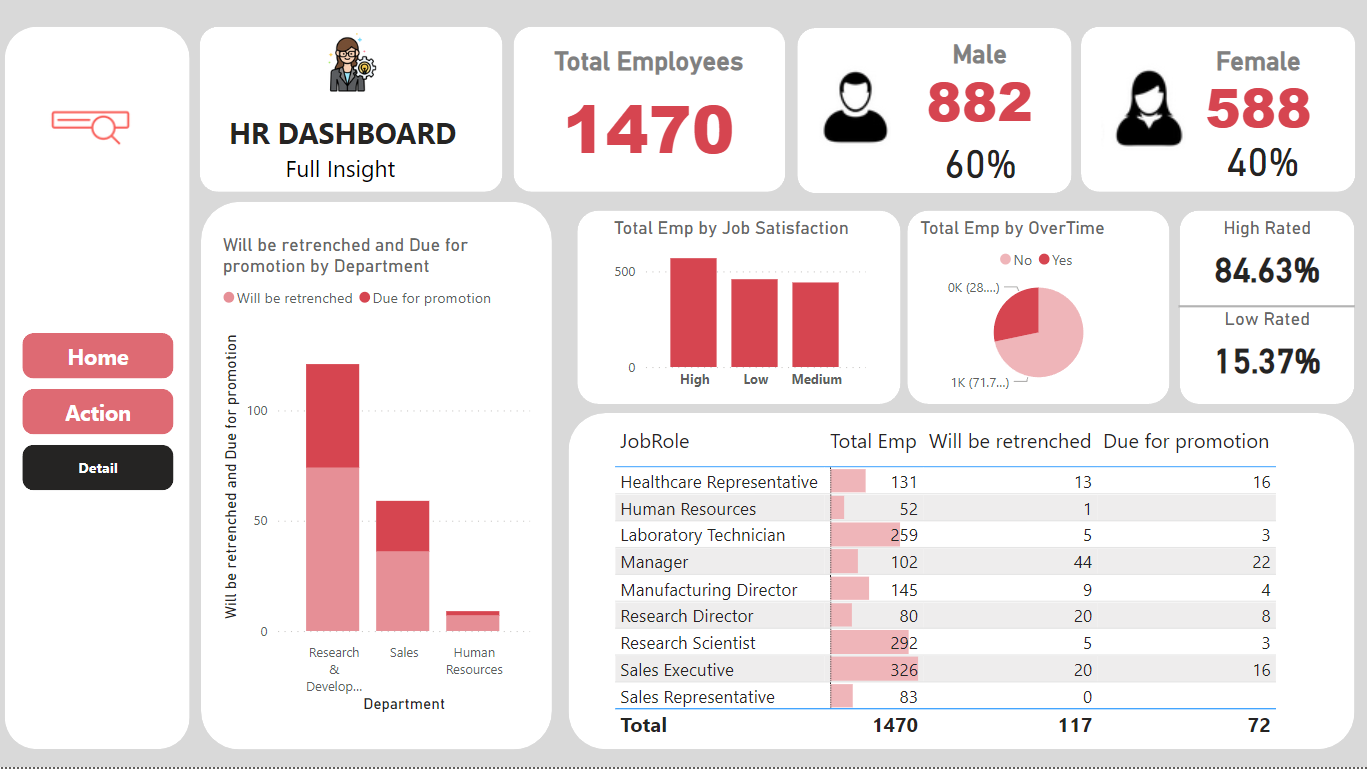

Layout of this report page (visuals, bound fields, positions):
{"tool":"powerbi","page":{"name":"Detail","canvas":[1280,720],"ordinal":2},"visuals":[{"type":"shape","box":[8.1,31.4,172.1,672.1],"z":0},{"type":"shape","box":[190,31.8,281.2,153.8],"z":1000},{"type":"shape","box":[1008.8,31.8,255,153.8],"z":2000},{"type":"shape","box":[745,33.1,255,153.8],"z":3000},{"type":"shape","box":[481.3,31.8,252.5,153.8],"z":4000},{"type":"textbox","box":[211.3,106.8,236.2,46.2],"z":5000},{"type":"textbox","box":[263.8,143.1,127.5,38.8],"z":6000},{"type":"image","box":[280,33.1,102.5,77.5],"z":7000},{"type":"card","title":"Total Employees ","fields":{"Values":["New Measures.Total Emp"]},"box":[502.5,49.3,210,120],"z":8000},{"type":"card","title":"Male","fields":{"Values":["New Measures.Male"]},"box":[841.3,43.1,148.8,83.8],"z":9000},{"type":"card","title":"Female","fields":{"Values":["New Measures.Female"]},"box":[1100,49.3,148.8,83.8],"z":10000},{"type":"card","fields":{"Values":["New Measures.% male"]},"box":[873.8,128.1,85,55],"z":11000},{"type":"card","fields":{"Values":["New Measures.% female"]},"box":[1136.3,126.8,85,55],"z":12000},{"type":"image","box":[747.5,51.8,100,100],"z":13000},{"type":"image","box":[1021.3,60.6,92.5,91.2],"z":14000},{"type":"shape","box":[190.7,194.2,326.7,509.3],"z":15000},{"type":"columnChart","fields":{"Category":["HR Analytics Data.Department"],"Y":["New Measures.Will be retrenched","New Measures.Due for promotion"]},"box":[205.8,224.4,296.5,450],"z":16000},{"type":"shape","box":[540.5,202.8,301.2,180.2],"z":17000},{"type":"shape","box":[847.4,202.8,244.2,180.2],"z":18000},{"type":"shape","box":[1100.9,202.8,162.8,180.2],"z":19000},{"type":"shape","box":[532.6,390.7,731.4,312.8],"z":20000},{"type":"columnChart","fields":{"Category":["HR Analytics Data.Job Satisfaction "],"Y":["New Measures.Total Emp"]},"box":[569.5,208.6,244.2,169.8],"z":21000},{"type":"pieChart","fields":{"Category":["HR Analytics Data.OverTime"],"Y":["New Measures.Total Emp"]},"box":[854.4,208.6,230.2,166.3],"z":22000},{"type":"tableEx","fields":{"Values":["HR Analytics Data.JobRole","New Measures.Total Emp","New Measures.Will be retrenched","New Measures.Due for promotion"]},"box":[569.8,396.5,646.5,302.3],"z":23000},{"type":"shape","box":[1100,230.2,164,122.1],"z":24000},{"type":"card","title":"High Rated","fields":{"Values":["New Measures.% High rated"]},"box":[1110.5,208.1,144.2,74.4],"z":25000},{"type":"card","title":"Low Rated","fields":{"Values":["New Measures.% Low rated"]},"box":[1110.5,293,144.2,74.4],"z":26000},{"type":"pageNavigator","box":[24.4,316.3,141.9,146.5],"z":27000},{"type":"image","box":[19.8,57,151.2,132.6],"z":27001}]}

Visuals, with their boxes in screenshot pixels (x1, y1, x2, y2), scaled from the page's 1280x720 canvas onto the 1367x769 screenshot:
shape: {"left": 9, "top": 34, "right": 192, "bottom": 751}
shape: {"left": 203, "top": 34, "right": 503, "bottom": 198}
shape: {"left": 1077, "top": 34, "right": 1350, "bottom": 198}
shape: {"left": 796, "top": 35, "right": 1068, "bottom": 200}
shape: {"left": 514, "top": 34, "right": 784, "bottom": 198}
textbox: {"left": 226, "top": 114, "right": 478, "bottom": 163}
textbox: {"left": 282, "top": 153, "right": 418, "bottom": 194}
image: {"left": 299, "top": 35, "right": 408, "bottom": 118}
"Total Employees " card: {"left": 537, "top": 53, "right": 761, "bottom": 181}
"Male" card: {"left": 898, "top": 46, "right": 1057, "bottom": 136}
"Female" card: {"left": 1175, "top": 53, "right": 1334, "bottom": 142}
card - New Measures.% male: {"left": 933, "top": 137, "right": 1024, "bottom": 196}
card - New Measures.% female: {"left": 1214, "top": 135, "right": 1304, "bottom": 194}
image: {"left": 798, "top": 55, "right": 905, "bottom": 162}
image: {"left": 1091, "top": 65, "right": 1190, "bottom": 162}
shape: {"left": 204, "top": 207, "right": 553, "bottom": 751}
columnChart - HR Analytics Data.Department x New Measures.Will be retrenched: {"left": 220, "top": 240, "right": 536, "bottom": 720}
shape: {"left": 577, "top": 217, "right": 899, "bottom": 409}
shape: {"left": 905, "top": 217, "right": 1166, "bottom": 409}
shape: {"left": 1176, "top": 217, "right": 1350, "bottom": 409}
shape: {"left": 569, "top": 417, "right": 1350, "bottom": 751}
columnChart - HR Analytics Data.Job Satisfaction  x New Measures.Total Emp: {"left": 608, "top": 223, "right": 869, "bottom": 404}
pieChart - HR Analytics Data.OverTime x New Measures.Total Emp: {"left": 912, "top": 223, "right": 1158, "bottom": 400}
tableEx - HR Analytics Data.JobRole x New Measures.Total Emp: {"left": 609, "top": 423, "right": 1299, "bottom": 746}
shape: {"left": 1175, "top": 246, "right": 1350, "bottom": 376}
"High Rated" card: {"left": 1186, "top": 222, "right": 1340, "bottom": 302}
"Low Rated" card: {"left": 1186, "top": 313, "right": 1340, "bottom": 392}
pageNavigator: {"left": 26, "top": 338, "right": 178, "bottom": 494}
image: {"left": 21, "top": 61, "right": 183, "bottom": 203}
